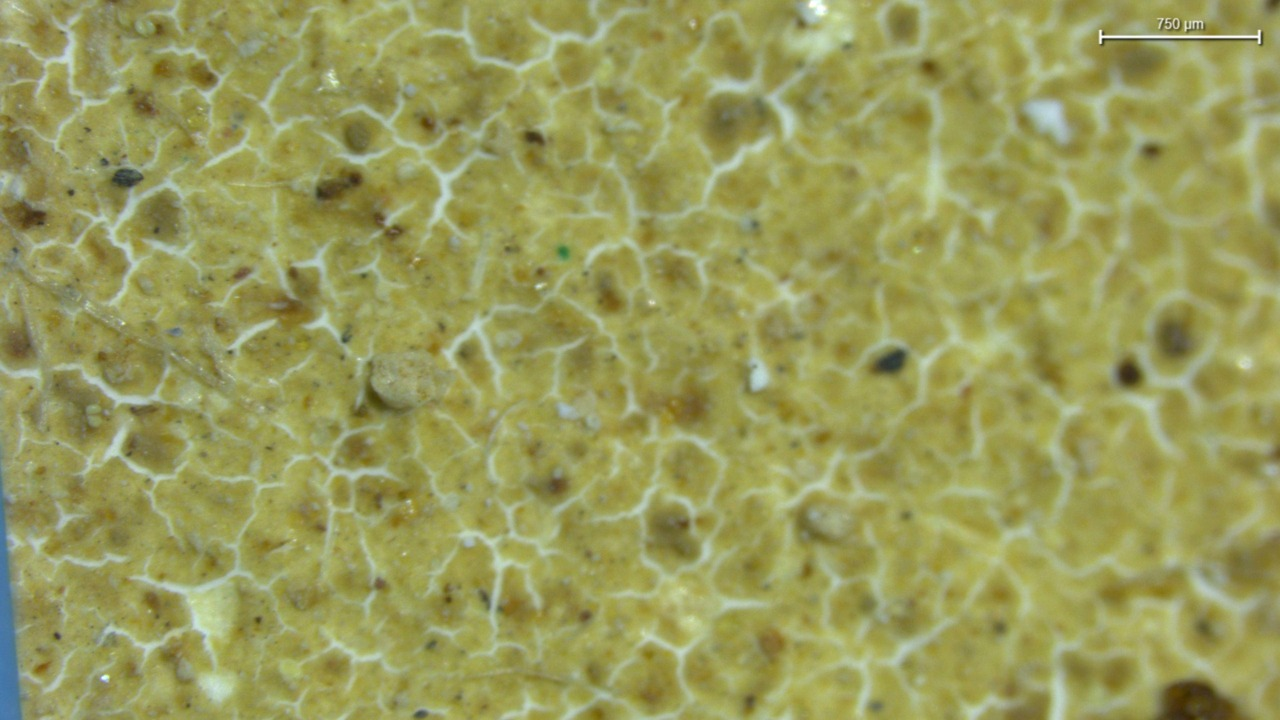microplastic_fragment: (369, 350, 453, 408)
